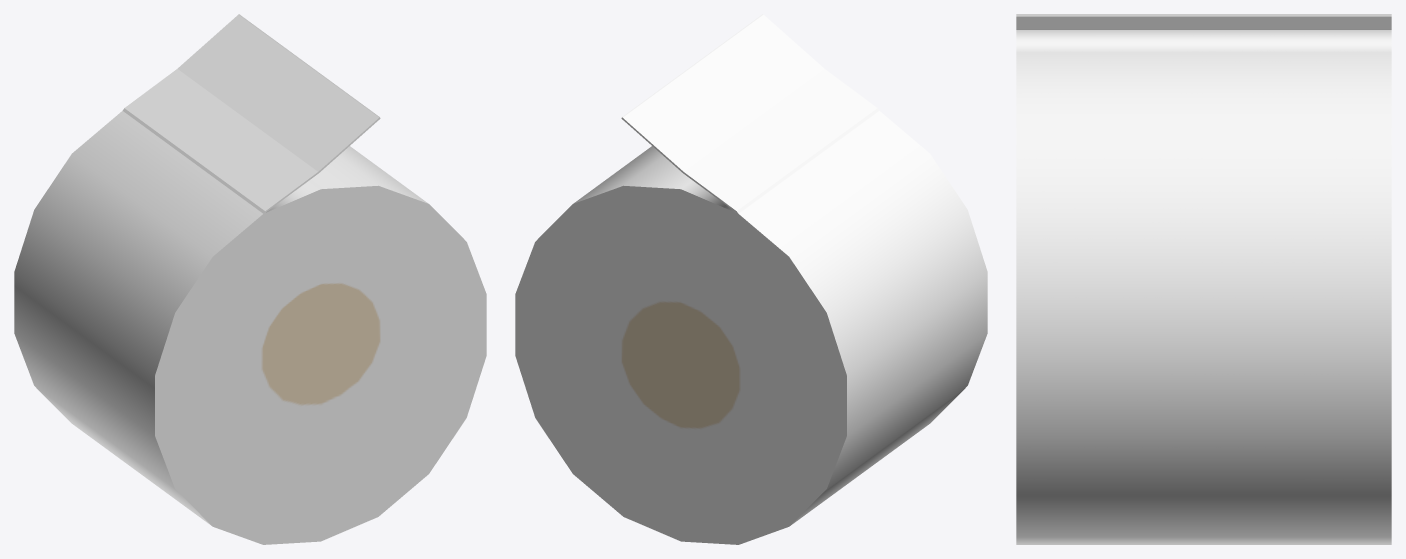
File: KTB0110002.fbx
3 views of the same model, side by side, from view 1: azimuth 30°, elevation 25°; view 2: azimuth 150°, elevation 25°; view 3: azimuth 270°, elevation 25° (orthographic). The views are drawn at different scales.
Parts seen in each view (by area): view 1: smKTB0110002; view 2: smKTB0110002; view 3: smKTB0110002.
Boxes of the visible parts, x1,y1,x2,y2 form: smKTB0110002: [14, 14, 486, 544]; smKTB0110002: [515, 14, 987, 544]; smKTB0110002: [1016, 14, 1391, 544].
Size of the model in its own units: 8.17 by 9.66 by 6.01.
1 material, 1 textured.
